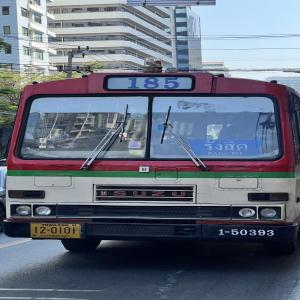BMTA-bus: (4, 71, 300, 256)
Bus Line Number: (104, 76, 192, 92)
Bus Side Number: (210, 226, 278, 237)
Destination Sign: (188, 140, 262, 158)
